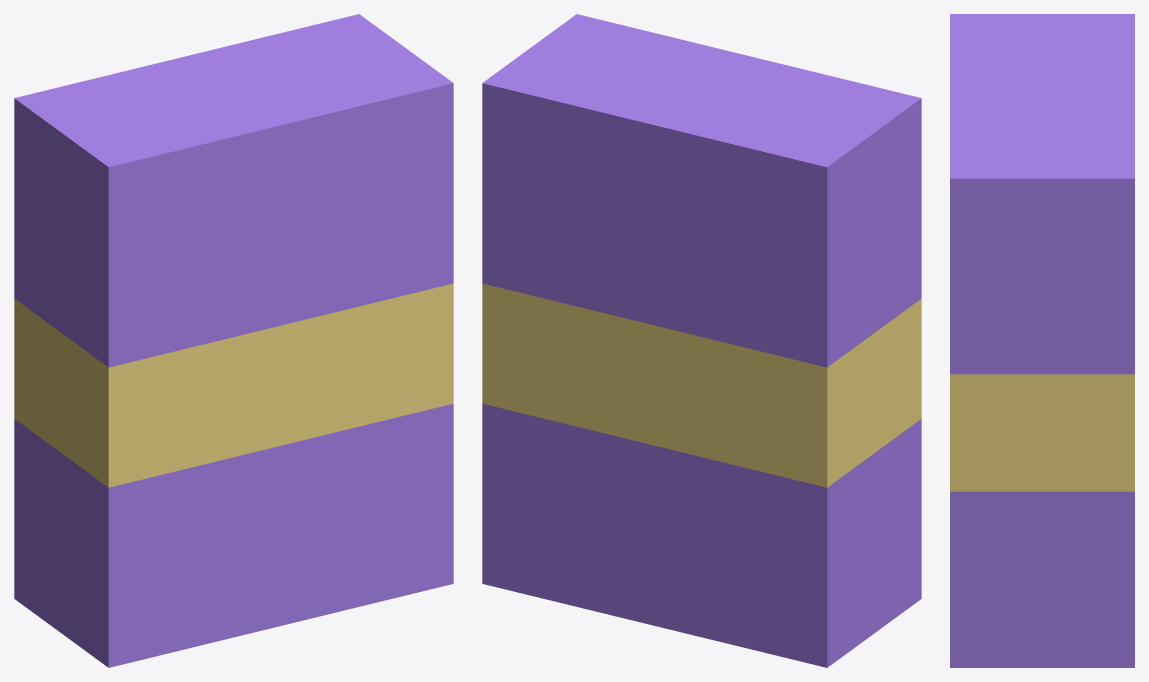
File: Ürün84.fbx
3 views of the same model, side by side, from view 1: azimuth 30°, elevation 25°; view 2: azimuth 150°, elevation 25°; view 3: azimuth 270°, elevation 25° (orthographic). The views are drawn at different scales.
Visible parts, largest first — view 1: pCube94; view 2: pCube94; view 3: pCube94.
Boxes of the visible parts, x1=… form: pCube94: x1=14, y1=14, x2=453, y2=667; pCube94: x1=482, y1=14, x2=921, y2=667; pCube94: x1=950, y1=14, x2=1134, y2=667.
Bounding box in the file's own units: 23.51 × 32.6 × 11.16.
